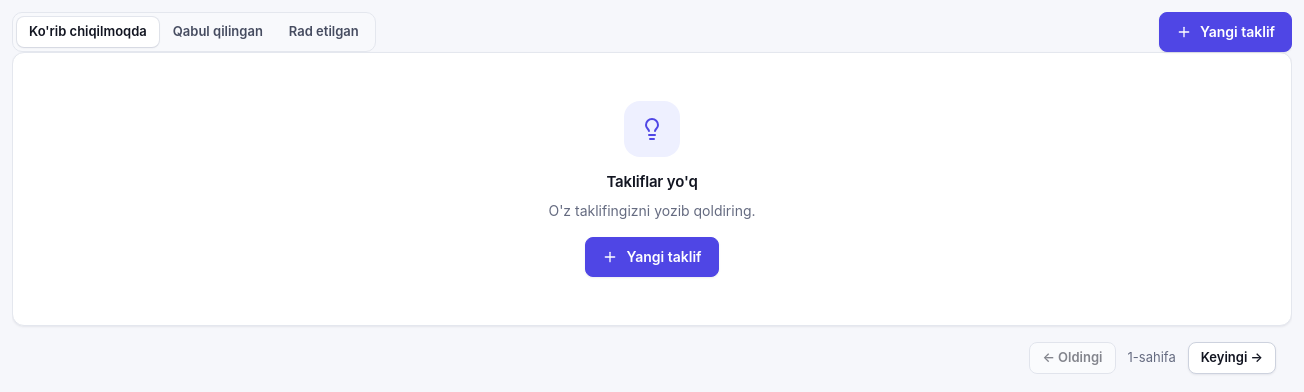
SuggestionsPage › 50 tadan keyingi taklifni ham ko'rsatadi
Step 1. Click the button "Keyingi →" → (1232, 358), box x1=1188 y1=342 x2=1276 y2=374
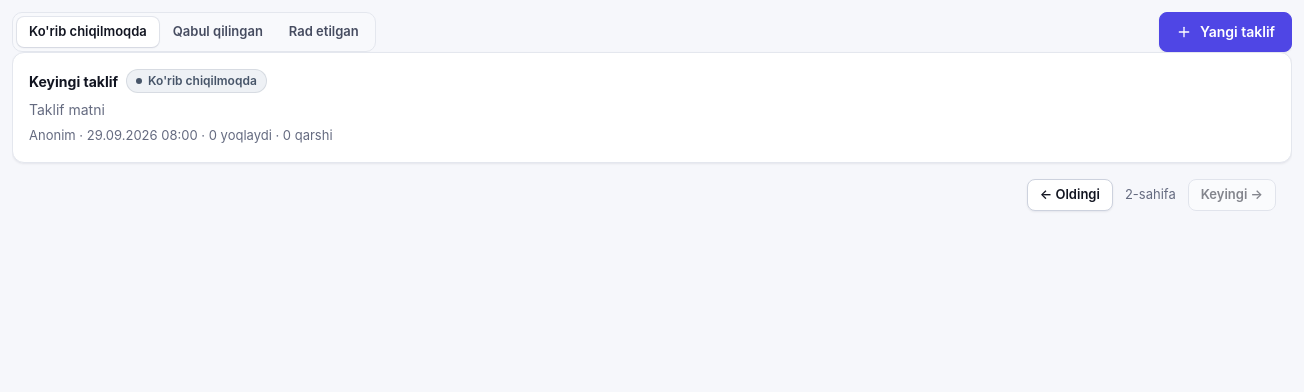
Expected: the text "Keyingi taklif" is shown, x1=29 y1=70 x2=118 y2=92
